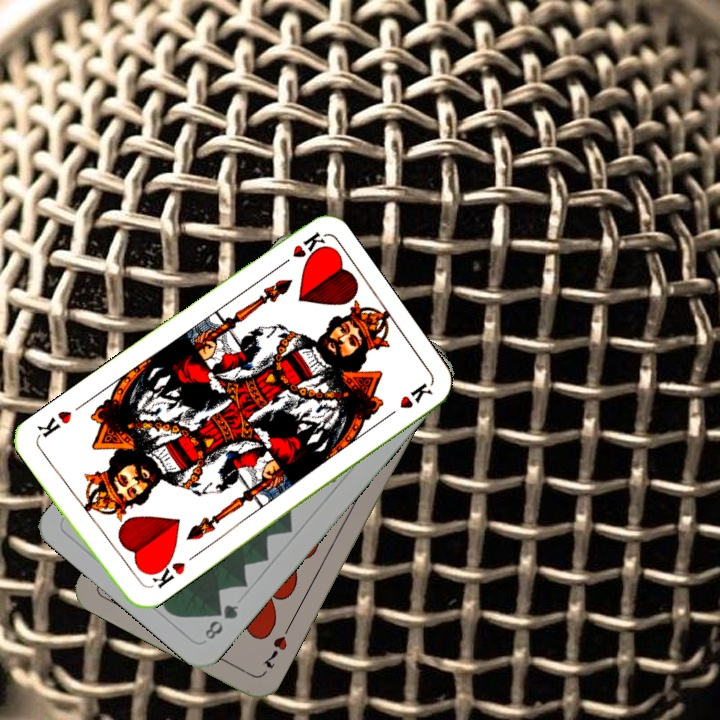G8: (200, 600, 241, 643)
H7: (259, 621, 293, 671)
HK: (272, 228, 328, 272), (144, 553, 188, 592)
